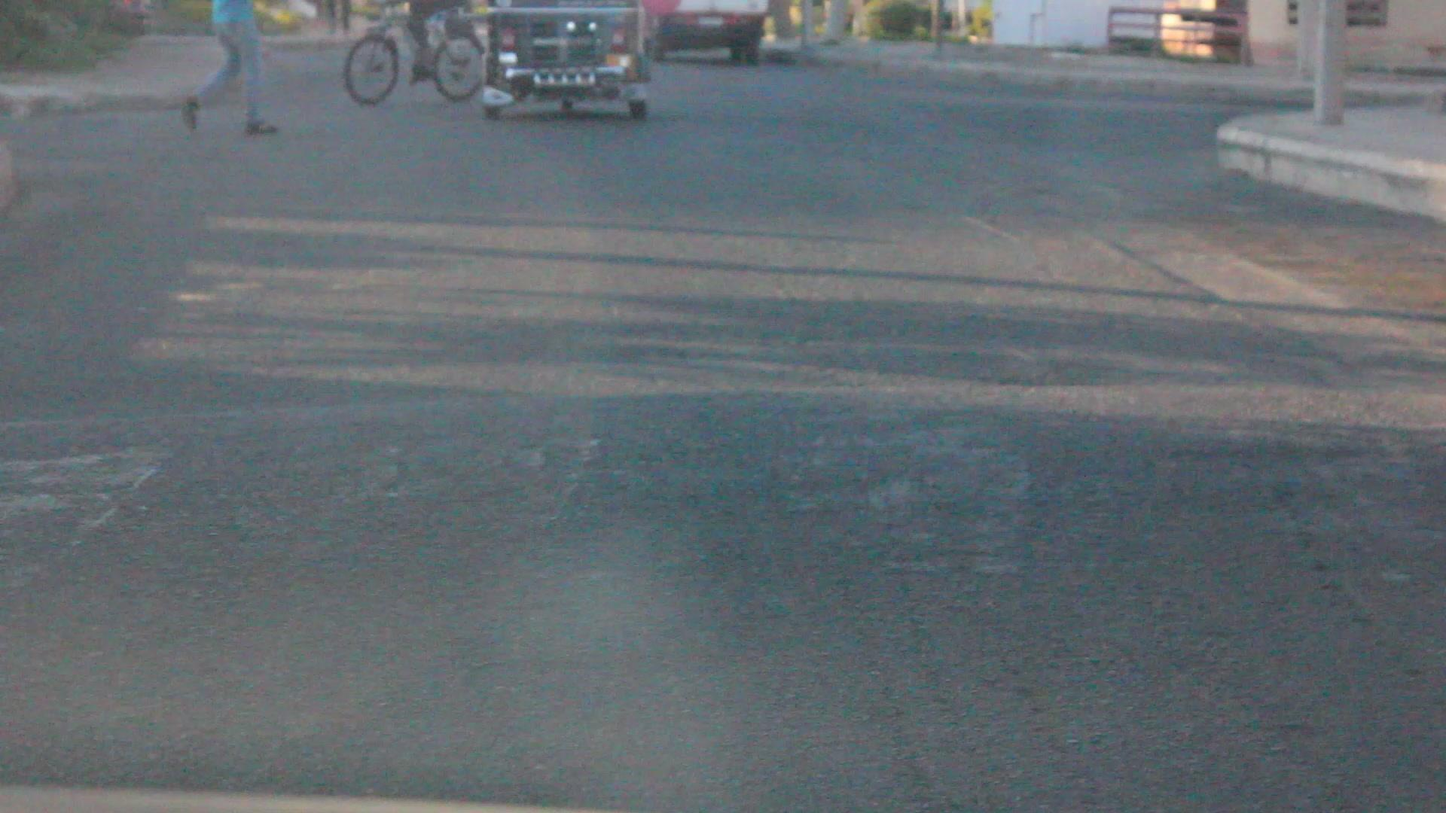Bump: (36, 427, 1446, 614)
